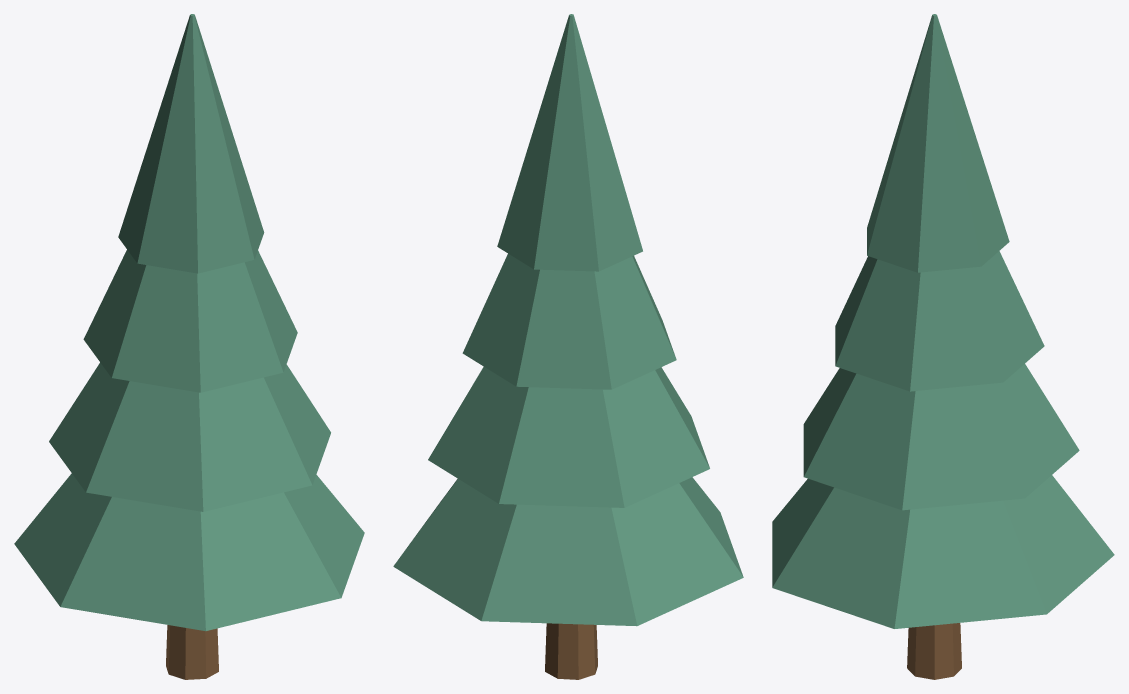
The model's file is Pine.glb.
3 views of the same model, side by side, from view 1: azimuth 30°, elevation 25°; view 2: azimuth 150°, elevation 25°; view 3: azimuth 270°, elevation 25° (orthographic).
Parts seen in each view (by area): view 1: NeedleTier, NeedleTier.001, NeedleTier.002, NeedleTier.003, Trunk; view 2: NeedleTier, NeedleTier.001, NeedleTier.002, NeedleTier.003, Trunk; view 3: NeedleTier, NeedleTier.001, NeedleTier.002, NeedleTier.003, Trunk.
Part boxes in pixels (left/top/right/bottom): NeedleTier: left=14, top=473, right=364, bottom=631; NeedleTier.001: left=49, top=362, right=330, bottom=511; NeedleTier.002: left=83, top=250, right=297, bottom=392; NeedleTier.003: left=118, top=14, right=264, bottom=273; Trunk: left=166, top=625, right=218, bottom=679; NeedleTier: left=393, top=477, right=743, bottom=626; NeedleTier.001: left=428, top=367, right=709, bottom=507; NeedleTier.002: left=462, top=253, right=676, bottom=389; NeedleTier.003: left=497, top=14, right=642, bottom=271; Trunk: left=545, top=623, right=597, bottom=679; NeedleTier: left=772, top=475, right=1114, bottom=628; NeedleTier.001: left=803, top=364, right=1079, bottom=510; NeedleTier.002: left=835, top=251, right=1044, bottom=391; NeedleTier.003: left=867, top=14, right=1009, bottom=272; Trunk: left=907, top=623, right=961, bottom=679.
Bounding box in the file's own units: 7.02 × 14.4 × 6.84.
